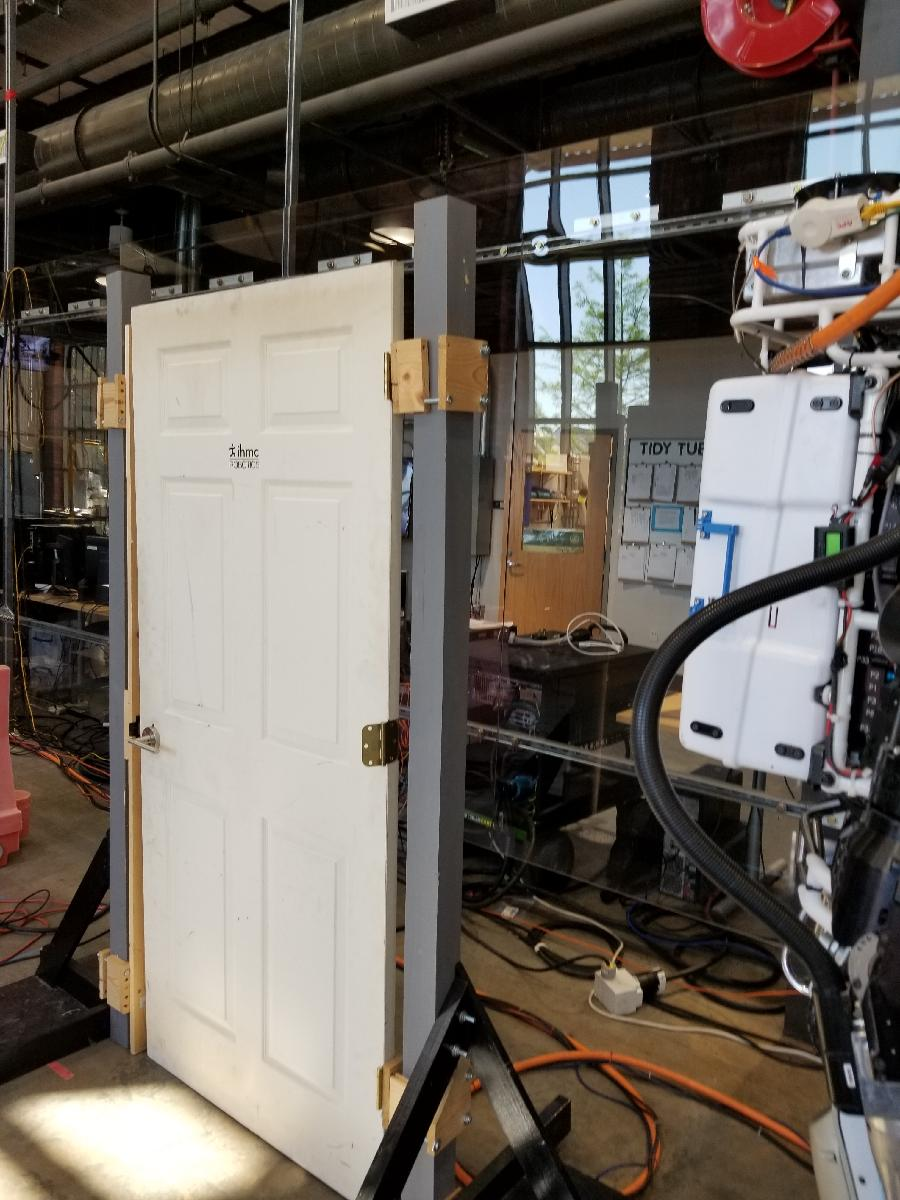door: (124, 255, 409, 1200)
doorHandle: (124, 720, 169, 759)
